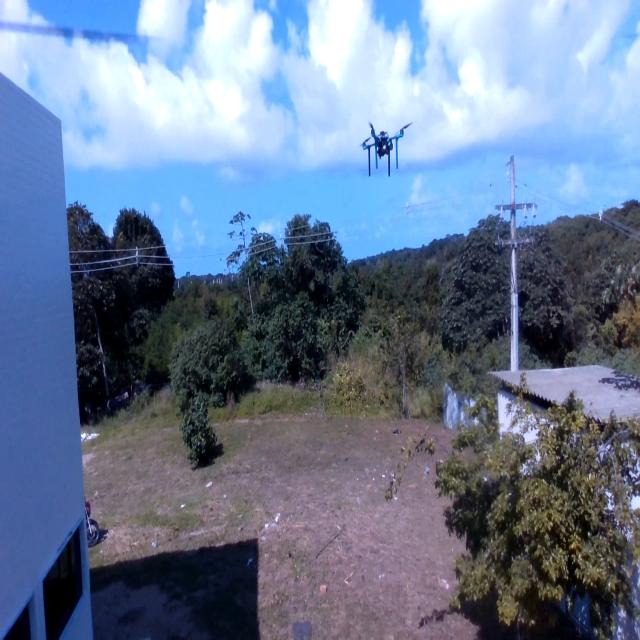-uav-: (356, 102, 413, 193)
